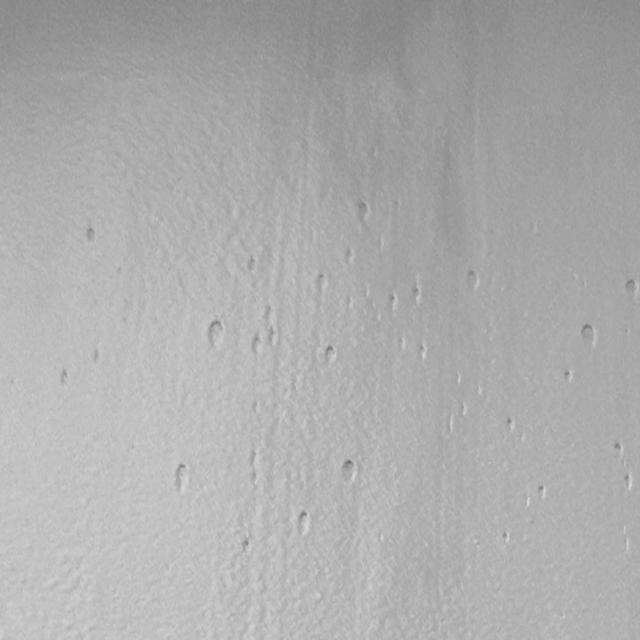pin holes: (204, 317, 228, 350), (172, 461, 192, 494), (579, 322, 600, 352), (339, 457, 361, 485), (464, 268, 484, 295), (294, 509, 312, 537), (355, 199, 374, 225), (310, 273, 328, 299), (57, 364, 76, 388), (320, 344, 339, 367), (623, 278, 639, 303), (239, 536, 257, 558), (243, 253, 260, 276), (252, 332, 266, 358), (342, 246, 358, 268), (387, 291, 402, 314), (622, 471, 636, 495), (84, 226, 100, 247), (416, 341, 430, 363), (90, 347, 104, 367), (612, 440, 626, 459), (504, 414, 518, 433), (411, 286, 424, 306), (264, 304, 274, 330), (563, 368, 577, 386), (250, 396, 260, 421), (267, 327, 279, 347), (536, 483, 550, 500), (446, 418, 455, 442), (459, 398, 469, 419), (398, 336, 410, 353), (501, 531, 513, 547), (454, 372, 464, 391), (621, 326, 631, 341)
